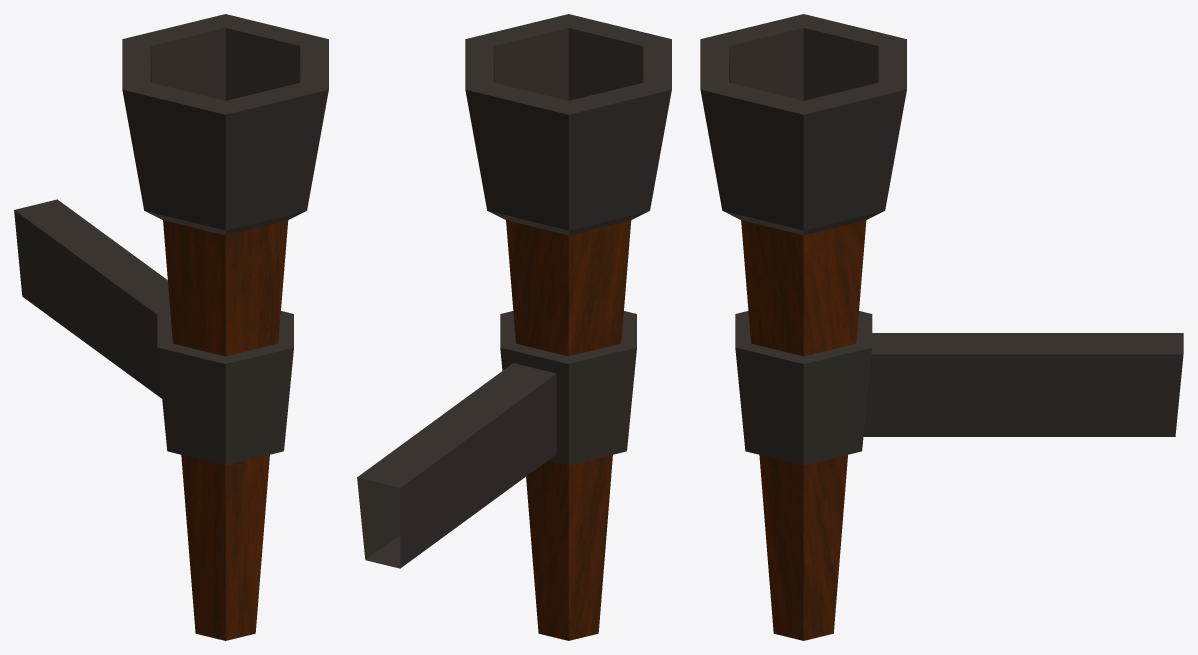
The model's file is Antorcha.fbx.
The picture shows the model from 3 angles, left to right: view 1: azimuth 30°, elevation 25°; view 2: azimuth 150°, elevation 25°; view 3: azimuth 270°, elevation 25°; orthographic projection.
Visible parts, largest first — view 1: Antorcha; view 2: Antorcha; view 3: Antorcha.
Boxes of the visible parts, left/top/right/bottom form: Antorcha: left=14, top=14, right=328, bottom=640; Antorcha: left=357, top=14, right=671, bottom=640; Antorcha: left=700, top=14, right=1183, bottom=640.
Bounding box in the file's own units: 46.17 × 120 × 93.5.
